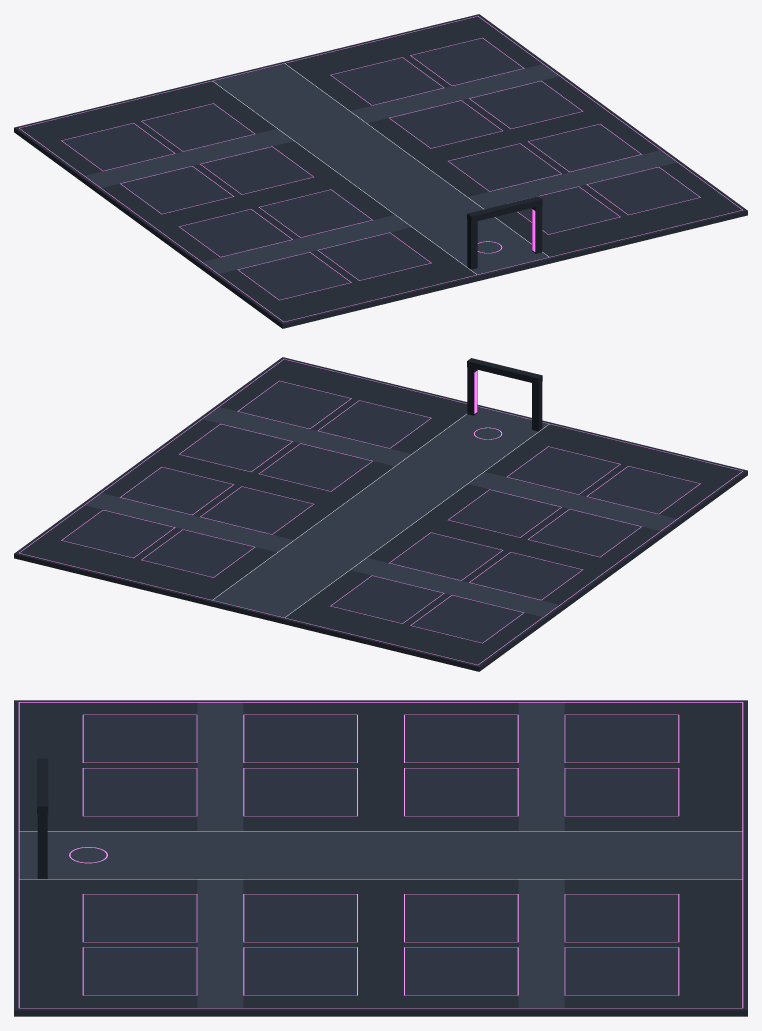
3 renders of one model, top to bottom at view 1: azimuth 30°, elevation 25°; view 2: azimuth 150°, elevation 25°; view 3: azimuth 270°, elevation 25°, orthographic. The views are drawn at different scales.
Parts seen in each view (by area): view 1: district_pixel.lod1; view 2: district_pixel.lod1; view 3: district_pixel.lod1.
Boxes of the visible parts, x1,y1,x2,y2 form: district_pixel.lod1: (14, 14, 747, 328); district_pixel.lod1: (14, 357, 747, 671); district_pixel.lod1: (14, 700, 747, 1016).
Size of the model in its own units: 64 by 7.62 by 64.
